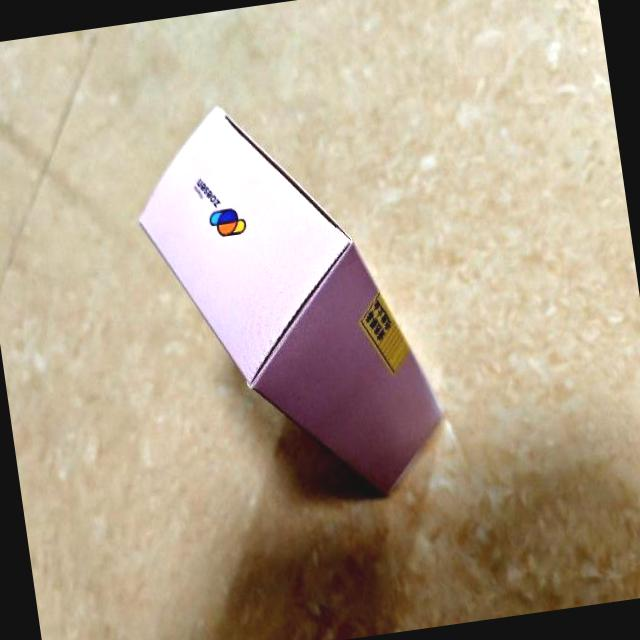box: (127, 80, 452, 524)
